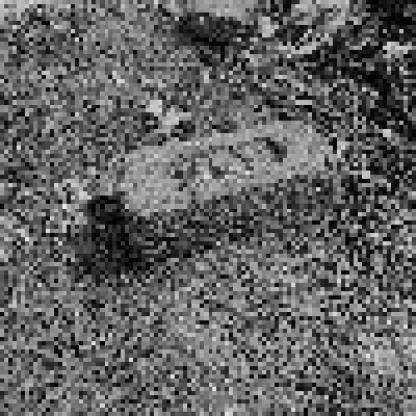brick: (89, 117, 336, 266), (183, 3, 259, 45)
